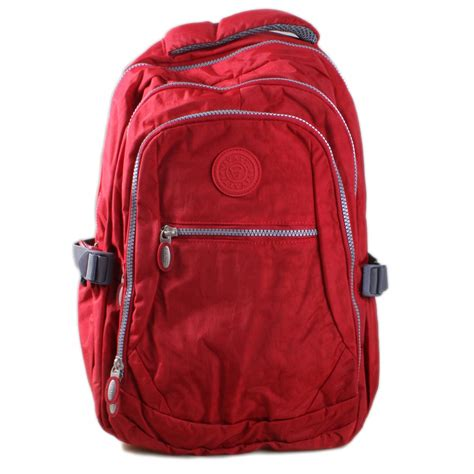nylon: (74, 6, 388, 457)
